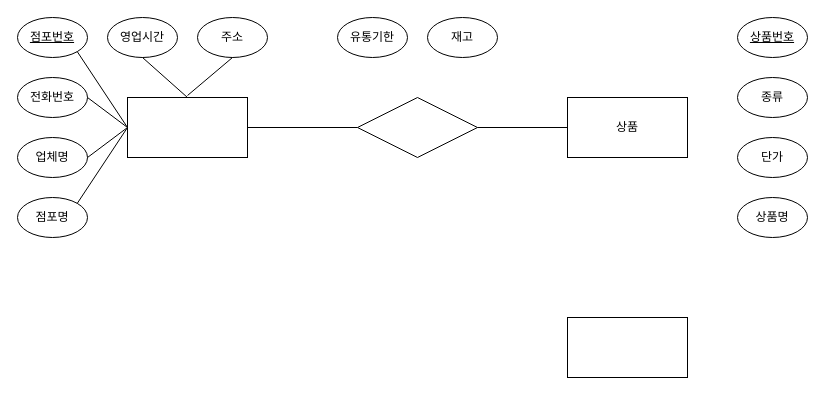
Some shapes in this 825 by 395 pixel diagram are drawn without their labels. Each missing label, with the centre of its shape:
고객: the point at 627,347
보유: the point at 417,127
편의점: the point at 187,127
